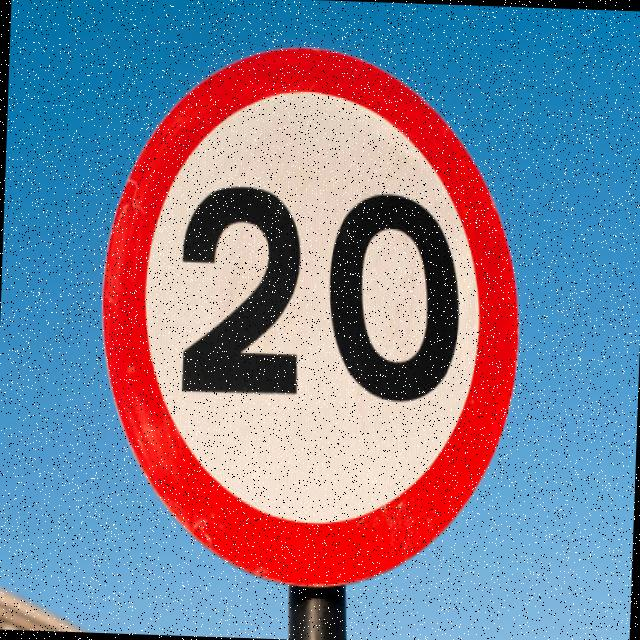speed_limit_20: (87, 33, 528, 596)
